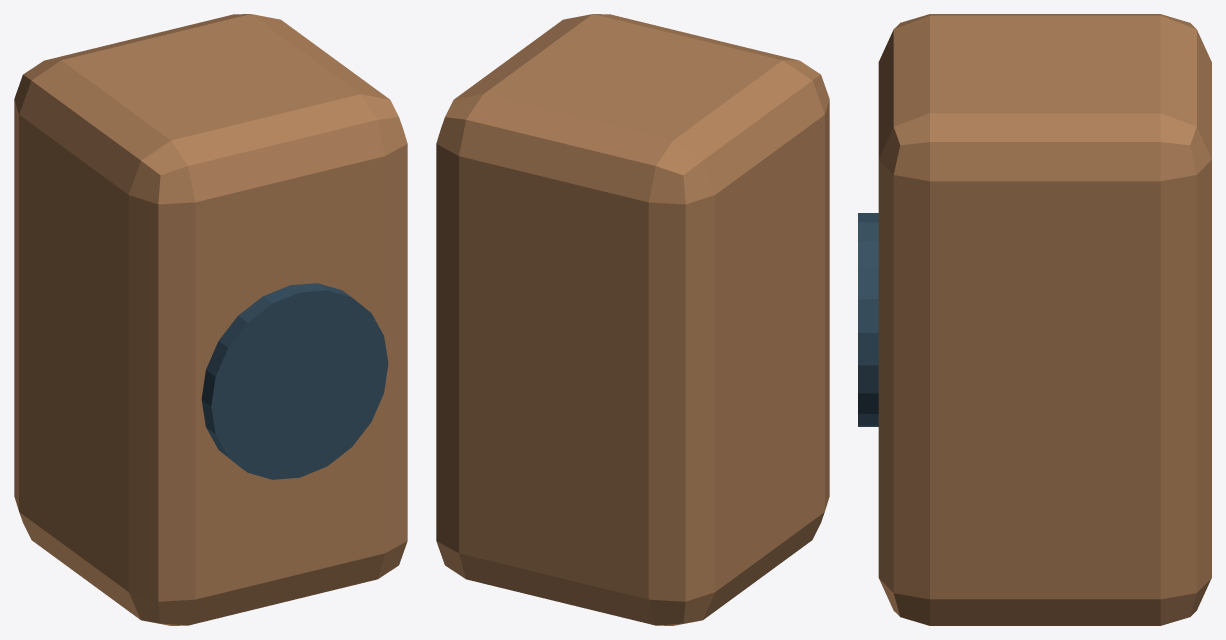
Rendered from speaker.glb.
3 views of the same model, side by side, from view 1: azimuth 30°, elevation 25°; view 2: azimuth 150°, elevation 25°; view 3: azimuth 270°, elevation 25° (orthographic). The views are drawn at different scales.
Parts seen in each view (by area): view 1: speaker_Mesh; view 2: speaker_Mesh; view 3: speaker_Mesh.
Part boxes in pixels (x1=…): speaker_Mesh: x1=14, y1=14, x2=407, y2=625; speaker_Mesh: x1=436, y1=14, x2=829, y2=625; speaker_Mesh: x1=858, y1=14, x2=1211, y2=625.
Size of the model in its own units: 0.13 by 0.22 by 0.138.
